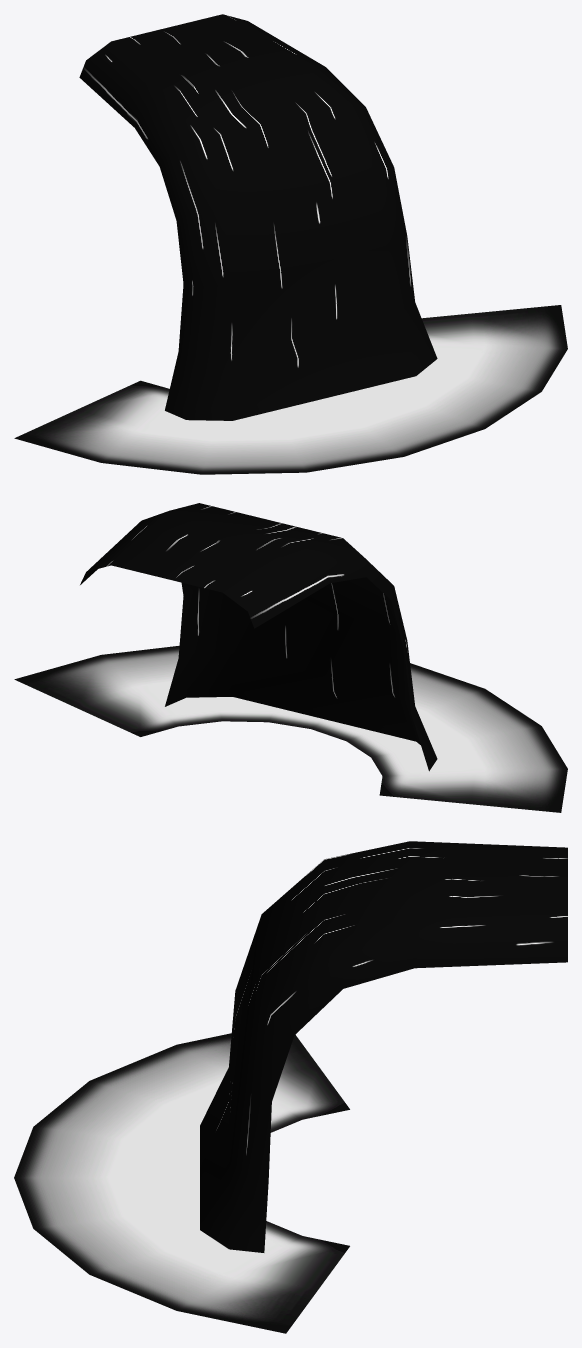
The model's file is P_Waterfall1.obj.
3 renders of one model, top to bottom at view 1: azimuth 30°, elevation 25°; view 2: azimuth 150°, elevation 25°; view 3: azimuth 270°, elevation 25°, orthographic. The views are drawn at different scales.
Bounding box in the file's own units: 8.56 × 3.82 × 6.43.
